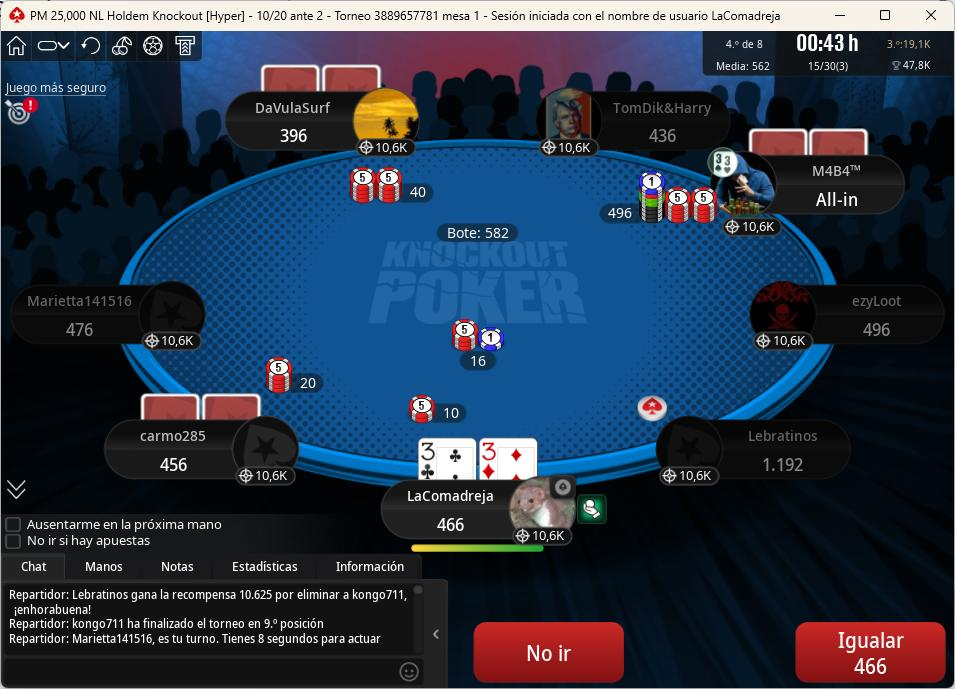ButtonCall: (791, 621, 950, 685)
ButtonFold: (472, 621, 627, 685)
Dealer: (633, 394, 671, 425)
HiddenCards: (136, 394, 267, 424), (748, 131, 872, 160), (260, 67, 387, 95)
Player: (748, 283, 949, 350), (103, 422, 303, 489), (222, 93, 418, 160), (10, 284, 208, 350), (709, 155, 913, 219), (655, 422, 854, 486), (546, 90, 737, 156)
PlayerBet: (593, 167, 726, 232), (338, 166, 441, 211), (250, 354, 329, 400)
PlayerChips: (811, 190, 870, 211), (759, 454, 816, 475), (58, 323, 104, 343), (642, 128, 690, 146), (859, 323, 902, 343), (151, 456, 195, 475), (271, 130, 319, 147)
Pot: (435, 224, 522, 245)
PrincipalBet: (405, 394, 472, 427)
PrincipalCards: (416, 438, 545, 484)
PrincipalCards1: (418, 438, 480, 485)
PrincipalCards2: (479, 438, 543, 486)
PrincipalPlayer: (381, 477, 586, 552)
PrincipalPlayerChips: (431, 518, 478, 538)
SmallBigBlind: (246, 5, 334, 27)
TablePot: (431, 321, 538, 380)
